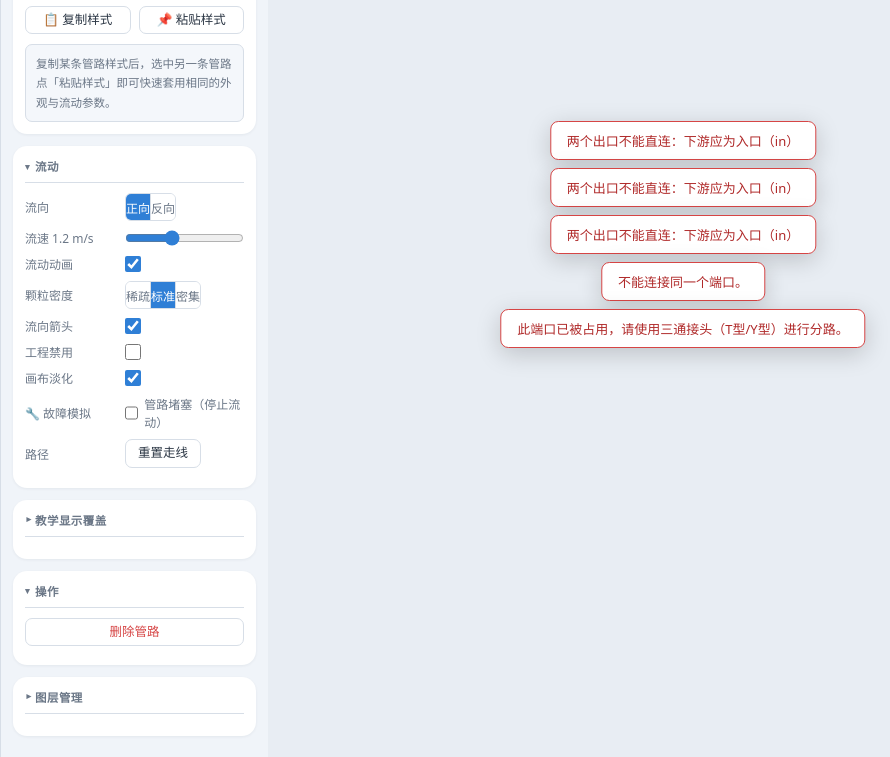
Test: 首批修复：画布状态、性能与定位 › 画布淡化与讲解停流不改工程流动或验收；教学控制独立折叠并在验收模式禁用
The width and height of the screenshot is (890, 757).
(page scrolled)
Expected: the element with class "insp-section" showing "▾ 教学显示覆盖" is shown, [13,500,256,559]
Click the element with class "insp-section-title" showing "▾ 教学显示覆盖".
click(134, 524)  # box [25,512,244,537]
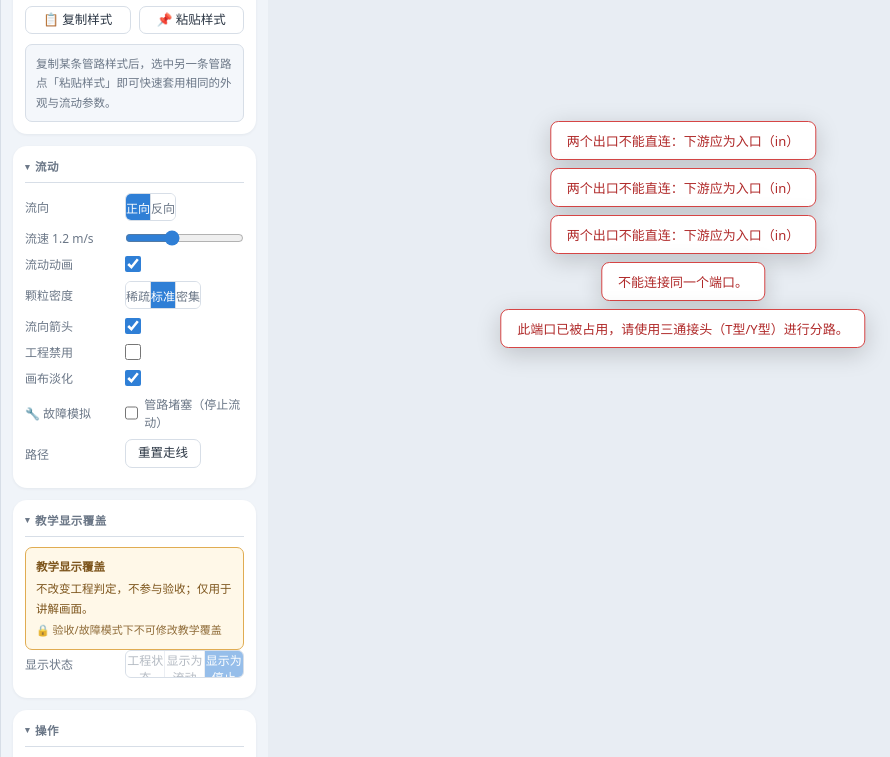
Now the element with class "insp-section" shows "不改变工程判定，不参与验收", box [36,581,232,616]
